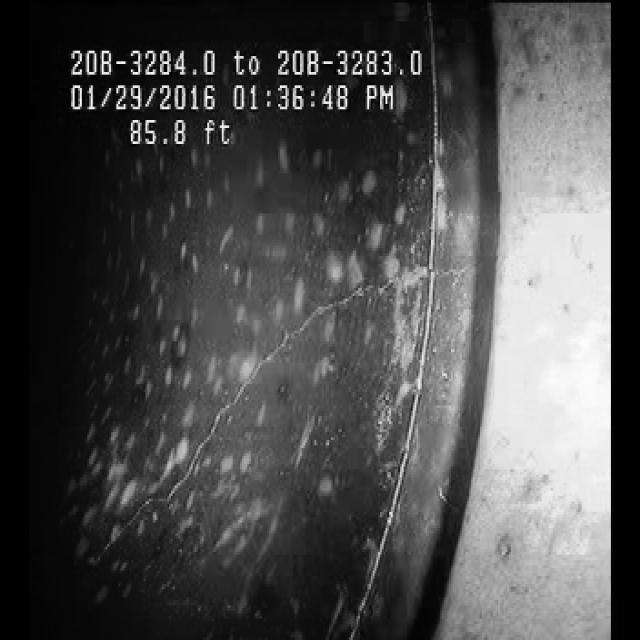Crack: (172, 234, 385, 514)
